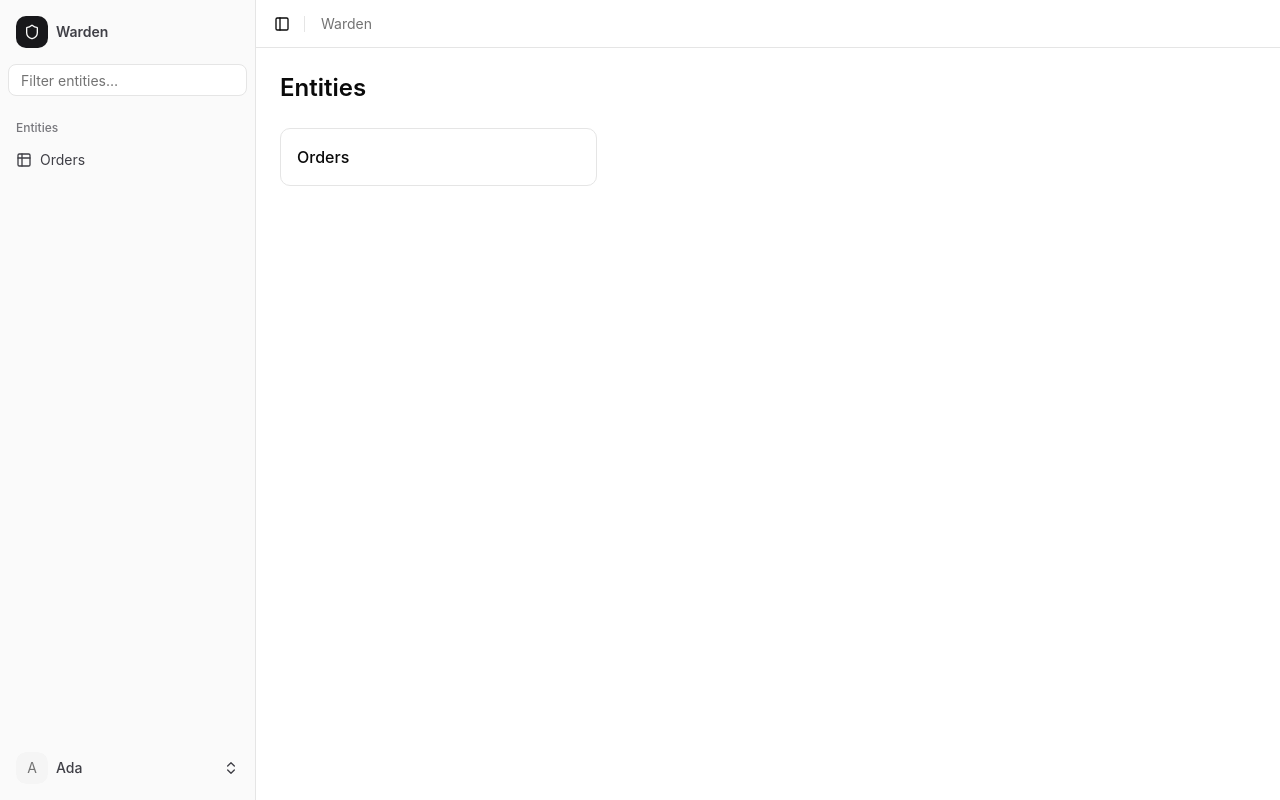
Scenario: help page › is linked from the user menu
Click the button with aria-label "Account" at (128, 768), box top-left (8, 744), bottom-right (247, 792)
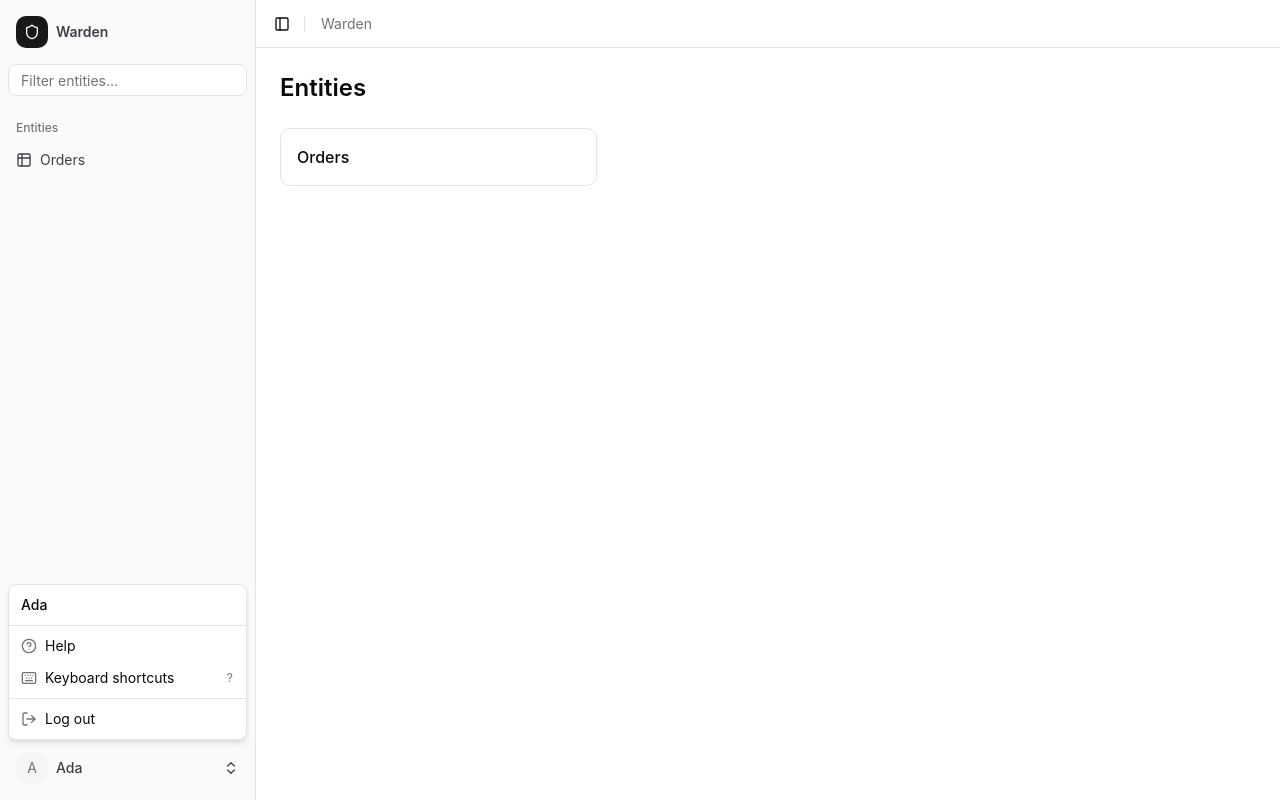
Click the menu item "Help" at (48, 646), box top-left (21, 637), bottom-right (76, 654)
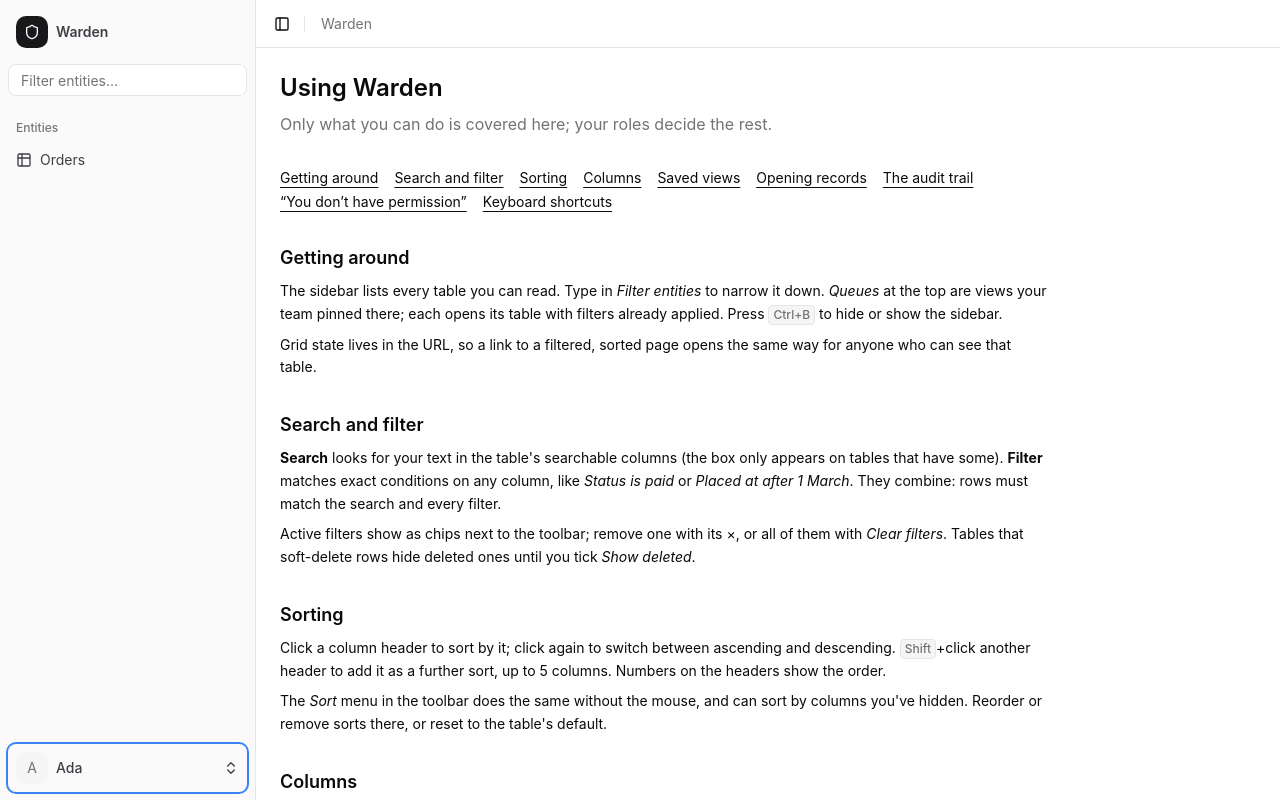
expect the heading "Using Warden" is shown: met, box top-left (280, 73), bottom-right (443, 102)
